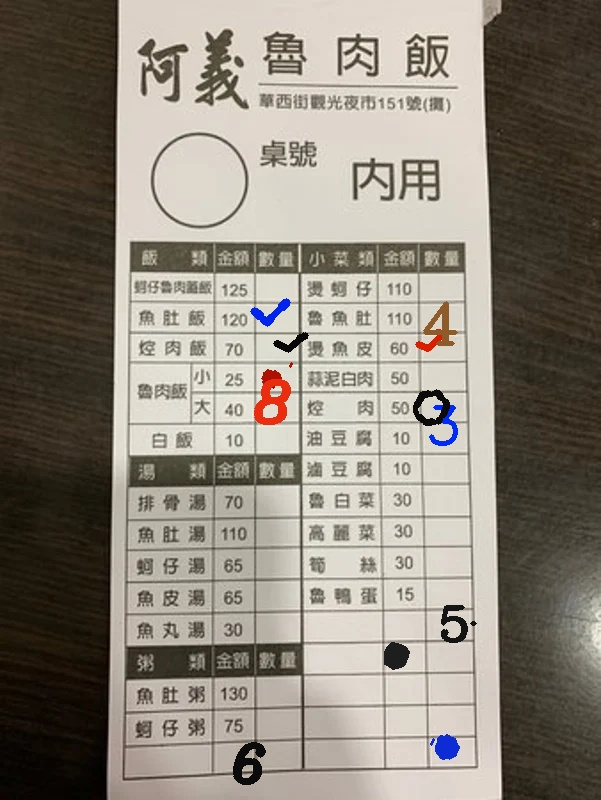marked_circle: (257, 363, 300, 391), (382, 642, 425, 670), (431, 734, 474, 762)
marked_hollow: (421, 391, 464, 419)
marked_number_3: (422, 422, 465, 450)
marked_number_4: (421, 301, 464, 329)
marked_number_5: (429, 612, 472, 640)
marked_number_6: (215, 742, 258, 770)
marked_number_8: (256, 393, 299, 421)
marked_tick: (421, 330, 464, 358), (256, 303, 299, 331), (256, 332, 299, 360)
